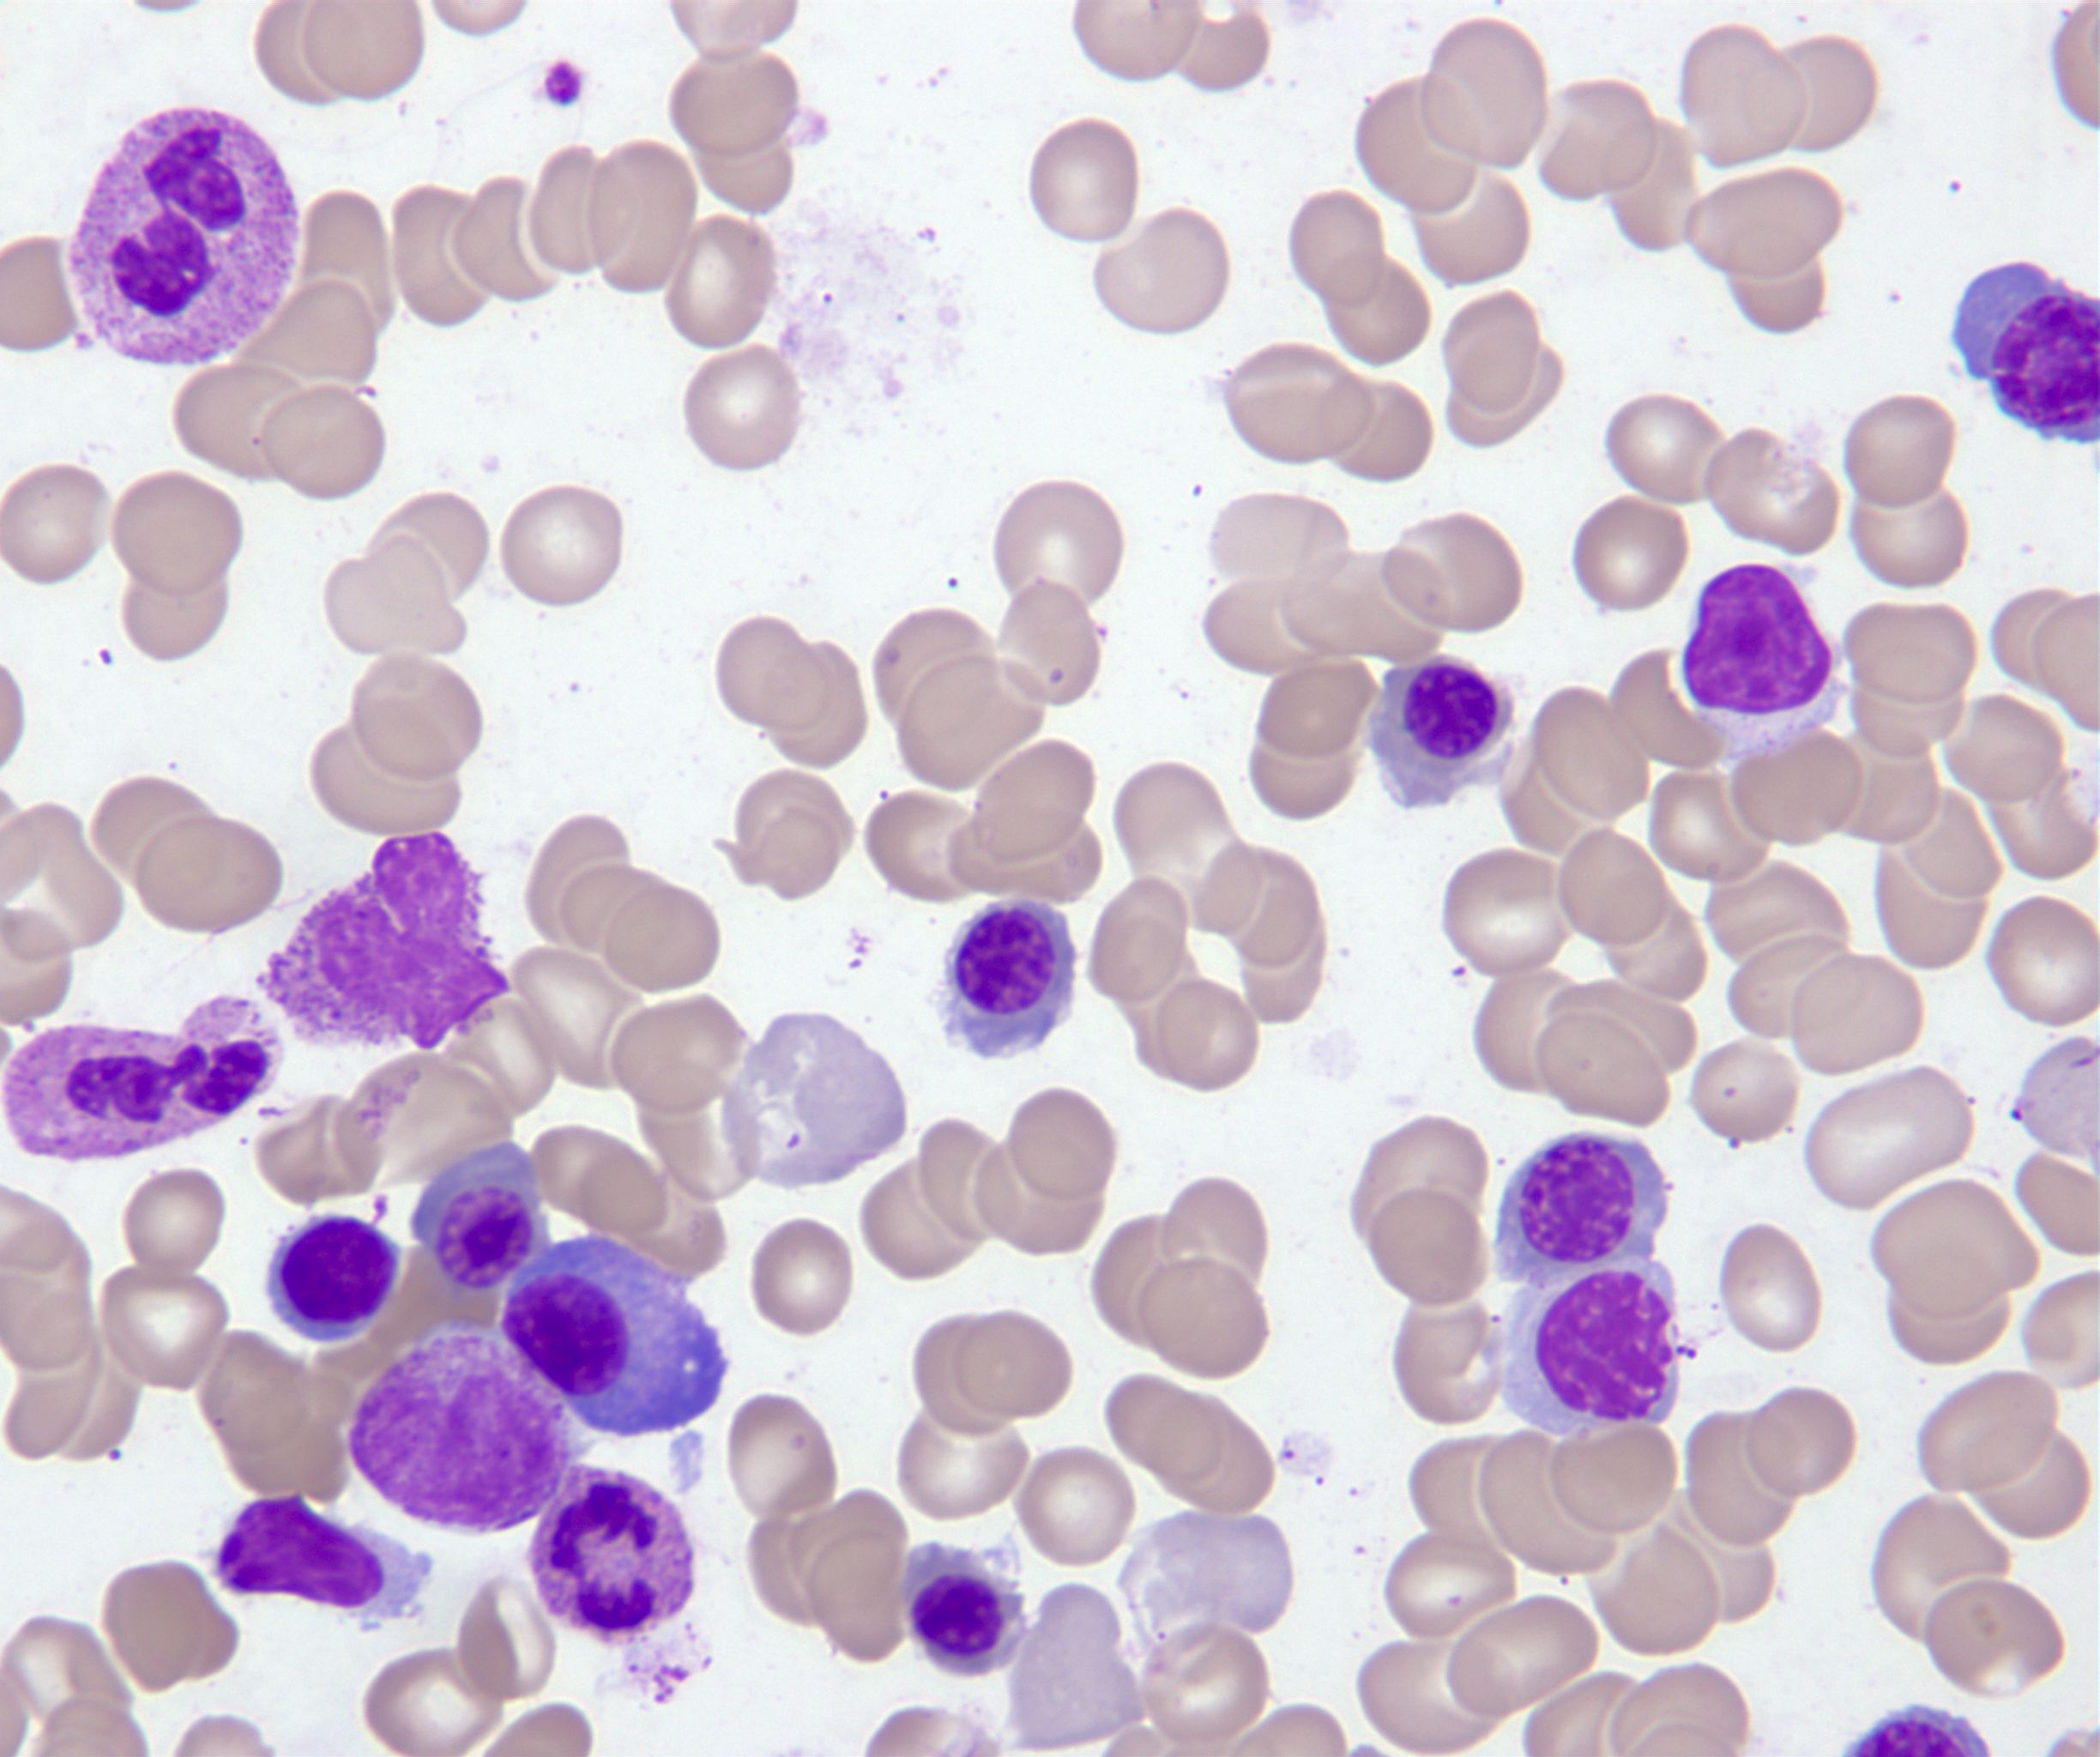23: (1953, 262, 2100, 445)
24: (1493, 1134, 1667, 1288), (1367, 653, 1512, 808), (410, 1139, 553, 1296), (944, 900, 1074, 1057), (902, 1542, 1024, 1677)
32: (215, 1495, 431, 1631), (267, 1214, 401, 1343)
4: (347, 1333, 565, 1534)
52: (501, 1235, 726, 1439)
6: (65, 105, 300, 366), (3, 998, 284, 1160), (528, 1466, 692, 1647)
x: (256, 834, 509, 1050), (1481, 1255, 1680, 1438), (1683, 565, 1842, 764)
